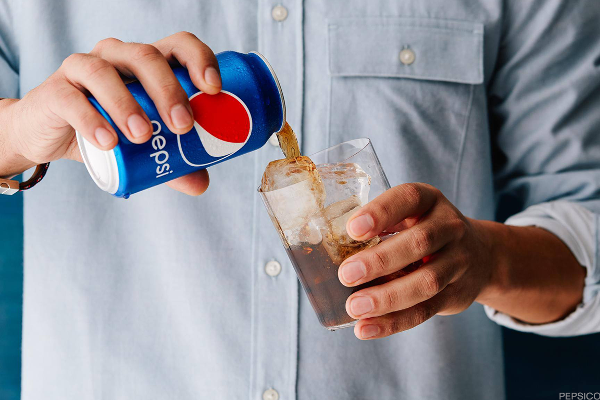pepsi: (172, 83, 251, 166), (174, 83, 251, 166), (174, 88, 251, 166)
